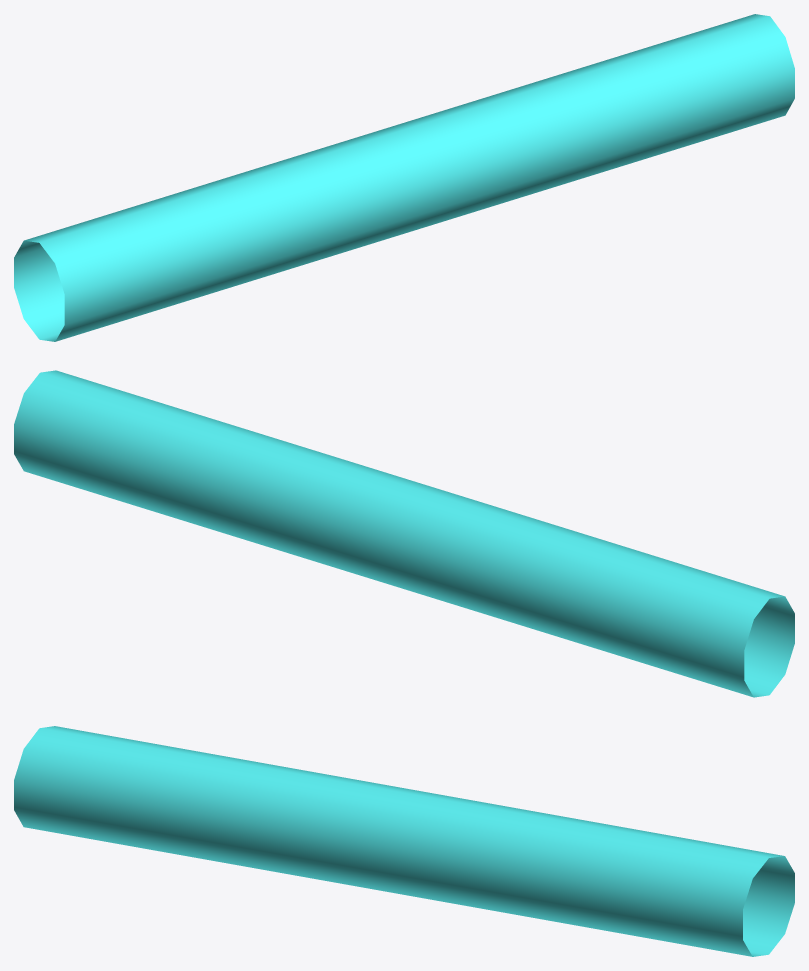
File: 低多边形风格青色工业管道_guanzic__1_.glb
3 renders of one model, top to bottom at view 1: azimuth 30°, elevation 25°; view 2: azimuth 150°, elevation 25°; view 3: azimuth 330°, elevation 25°, orthographic.
Visible parts, largest first — view 1: guanzic__1_; view 2: guanzic__1_; view 3: guanzic__1_.
Boxes of the visible parts, bbox=[...] form: guanzic__1_: bbox=[14, 14, 794, 341]; guanzic__1_: bbox=[14, 370, 794, 697]; guanzic__1_: bbox=[14, 726, 794, 956].
Size of the model in its own units: 1.69 by 0.3192 by 0.2027.
